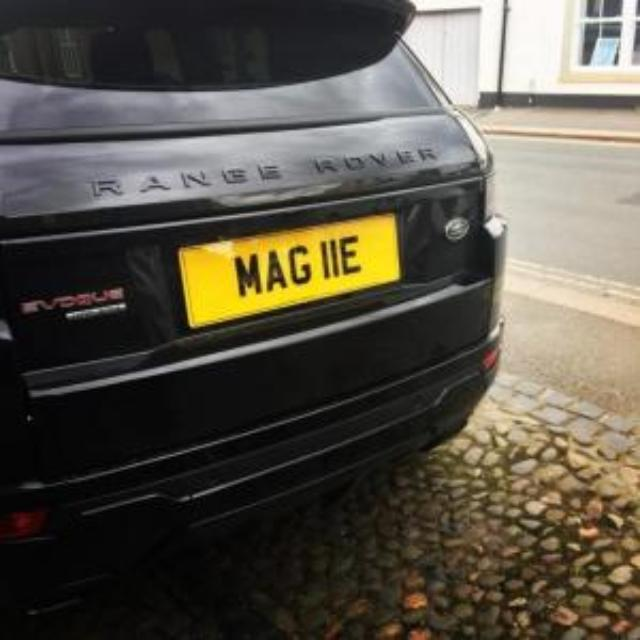License Plate: (178, 216, 401, 328)
